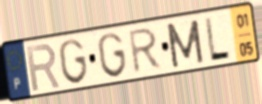G: (96, 30, 129, 80), (57, 36, 90, 86)
L: (203, 15, 232, 62)
M: (164, 18, 206, 71)
R: (25, 42, 63, 94), (127, 26, 164, 77)
